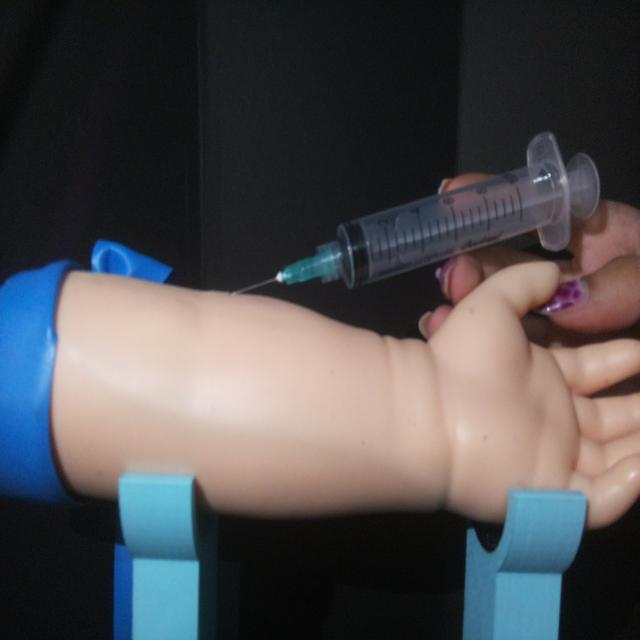23deg: (227, 126, 603, 302)
